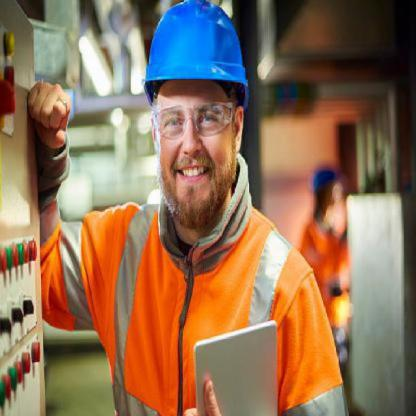blue-helm: (136, 1, 266, 107)
glass: (146, 97, 238, 141)
person: (59, 2, 361, 412)
vest-helm: (59, 201, 352, 412)
